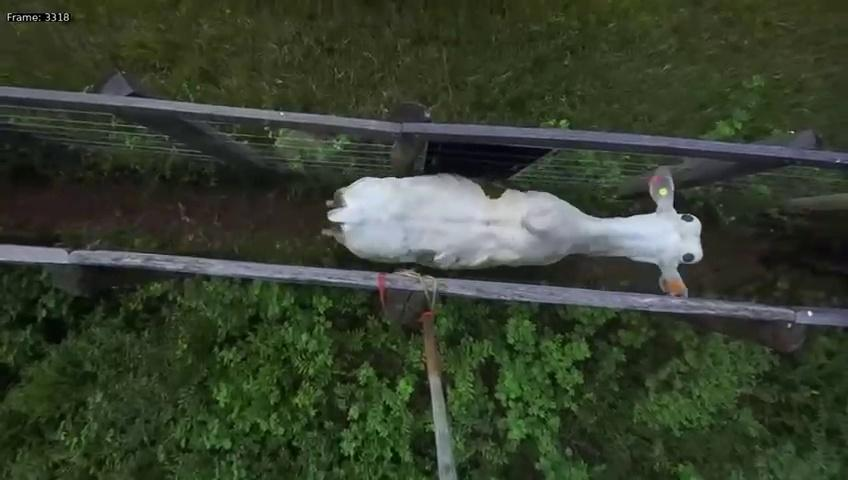cattle: (315, 158, 704, 307)
